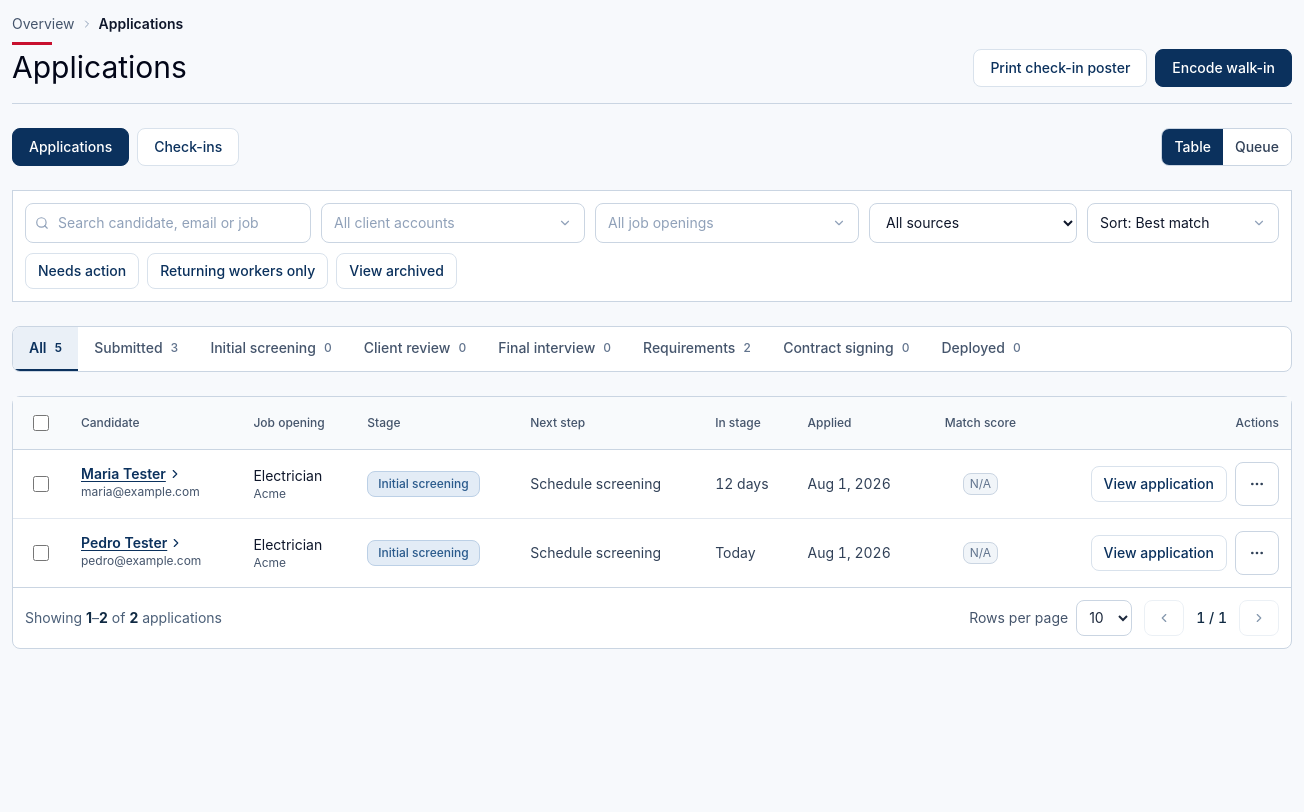
Test case: TA applications list controls › offers open job opening and copy email in the row menu
Click the button named "More actions for Maria Tester" at (1257, 484), box [1235,462,1279,506]
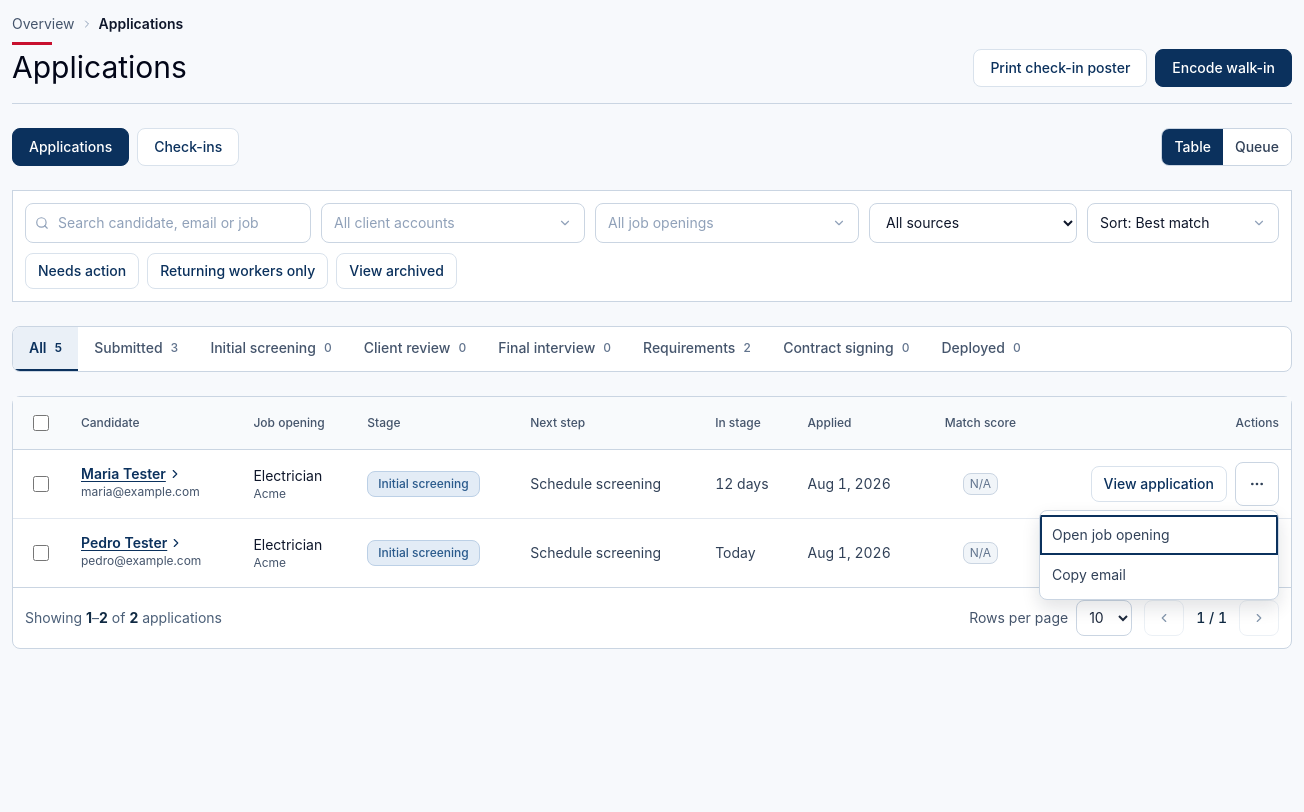
Expected: the menu item "Open job opening" is shown, [1040,514,1278,554]
Expected: the menu item "Copy email" is shown, [1040,554,1278,594]
